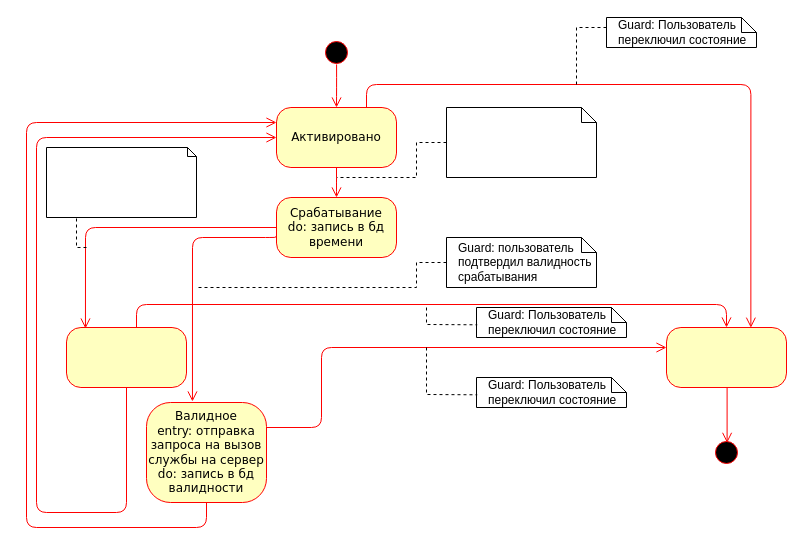
Some shapes in this 804 by 555 pixel diagram are drawn without their labels. Here are the shapes that lost their labels. From the top down, the centre of each, then its label:
(x=521, y=142): Trigger: замечено движение Action: отправка уведомления
(x=121, y=182): Guard: Пользователь не подтвердил валидность срабатывания Либо timeout
(x=126, y=357): Ложное do: запись в бд ложности
(x=726, y=357): Деактивировано
